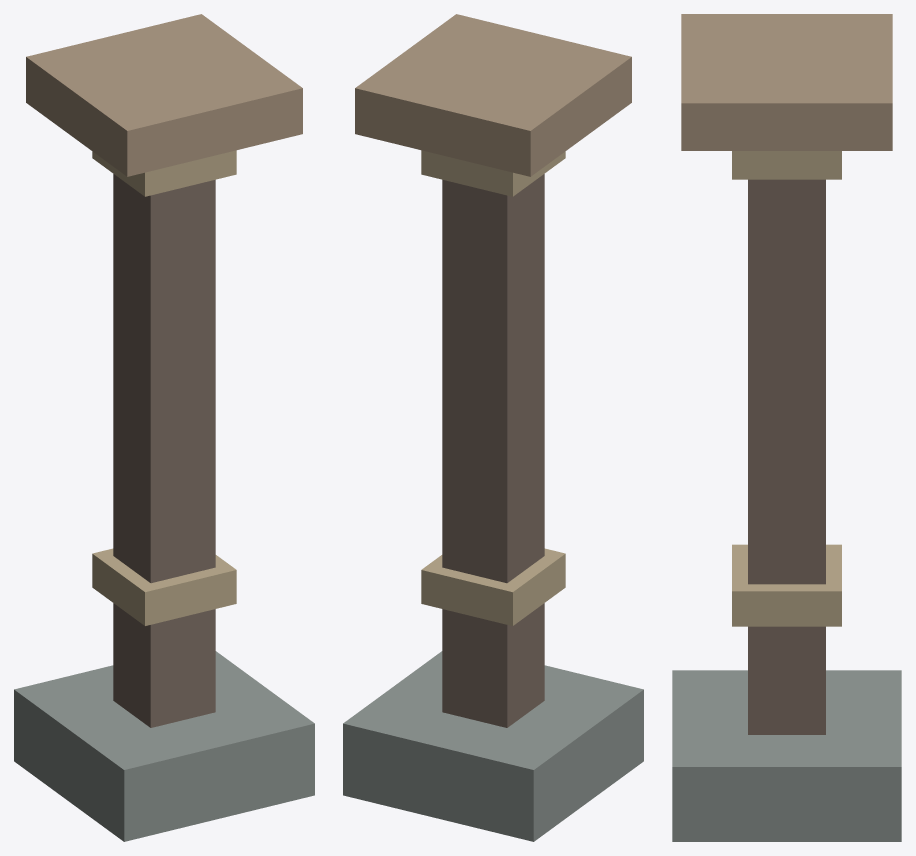
The model's file is pilar_madeira_dourado.glb.
3 views of the same model, side by side, from view 1: azimuth 30°, elevation 25°; view 2: azimuth 150°, elevation 25°; view 3: azimuth 270°, elevation 25° (orthographic). The views are drawn at different scales.
Parts seen in each view (by area): view 1: pilar_madeira_dourado_part_001, pilar_madeira_dourado_part_000, pilar_madeira_dourado_part_004, pilar_madeira_dourado_part_002, pilar_madeira_dourado_part_003; view 2: pilar_madeira_dourado_part_001, pilar_madeira_dourado_part_000, pilar_madeira_dourado_part_004, pilar_madeira_dourado_part_002, pilar_madeira_dourado_part_003; view 3: pilar_madeira_dourado_part_001, pilar_madeira_dourado_part_000, pilar_madeira_dourado_part_004, pilar_madeira_dourado_part_002, pilar_madeira_dourado_part_003.
Part boxes in pixels (<box>): pilar_madeira_dourado_part_001: <box>113,174,215,727</box>; pilar_madeira_dourado_part_000: <box>14,651,314,841</box>; pilar_madeira_dourado_part_004: <box>26,14,302,176</box>; pilar_madeira_dourado_part_002: <box>92,548,236,625</box>; pilar_madeira_dourado_part_003: <box>92,150,236,196</box>; pilar_madeira_dourado_part_001: <box>442,174,544,727</box>; pilar_madeira_dourado_part_000: <box>343,651,643,841</box>; pilar_madeira_dourado_part_004: <box>355,14,631,176</box>; pilar_madeira_dourado_part_002: <box>421,548,565,625</box>; pilar_madeira_dourado_part_003: <box>421,150,565,196</box>; pilar_madeira_dourado_part_001: <box>748,179,825,734</box>; pilar_madeira_dourado_part_000: <box>672,670,901,841</box>; pilar_madeira_dourado_part_004: <box>681,14,892,150</box>; pilar_madeira_dourado_part_002: <box>732,544,841,626</box>; pilar_madeira_dourado_part_003: <box>732,151,841,179</box>.
Size of the model in its own units: 1 by 3.54 by 1.
